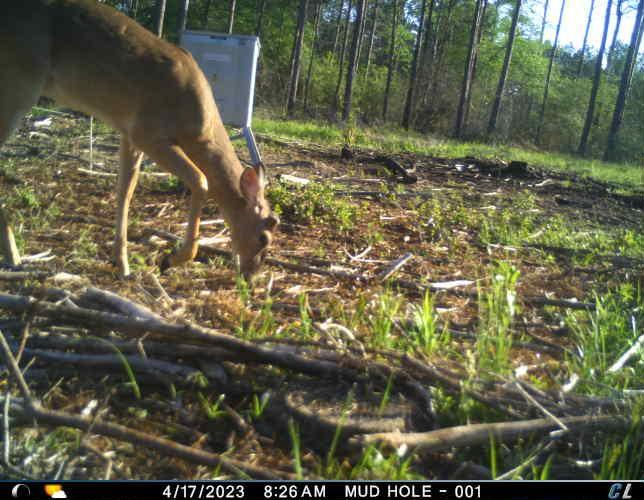Deer: (0, 0, 287, 280)
